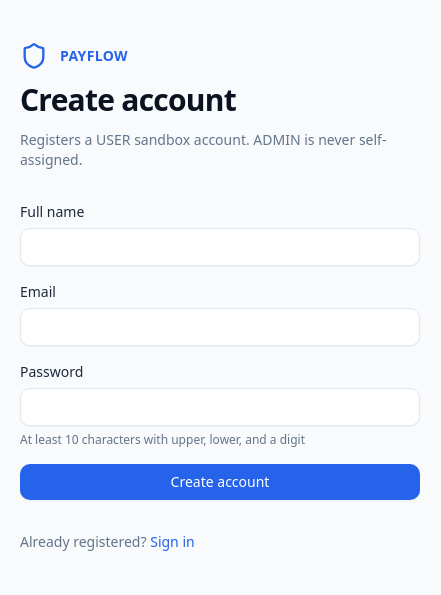
Test: login and registration UI › handles duplicate email on registration
Expected: the heading "Create account" is shown, left=20, top=79, right=236, bottom=120
Type "Ada Lovelace" into the field labelled "Full name" at [220, 247], box left=20, top=228, right=420, bottom=266
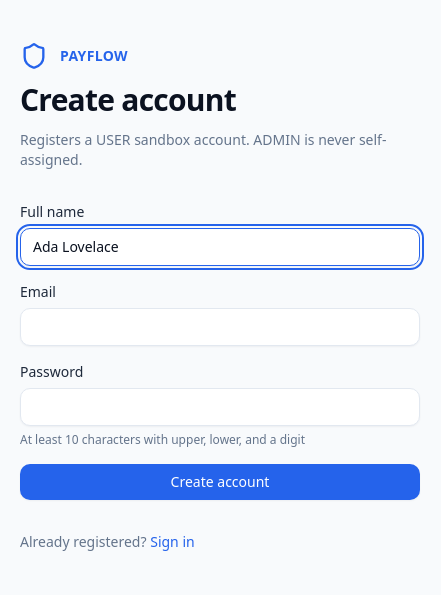
Type "ada@example.com" into the field labelled "Email" at [220, 327], box left=20, top=308, right=420, bottom=346
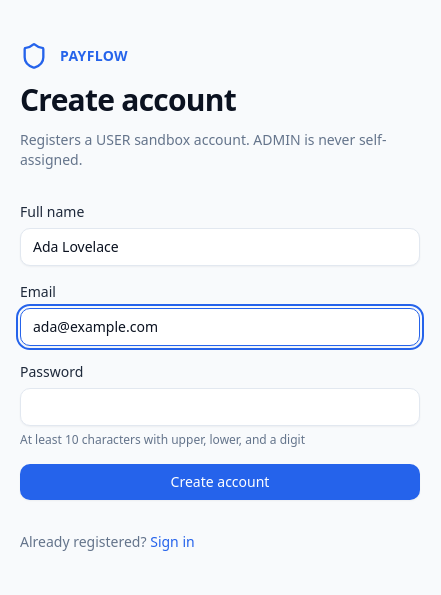
Type "Str0ngPass!" into the password field labelled "Password" at [220, 407], box left=20, top=388, right=420, bottom=426
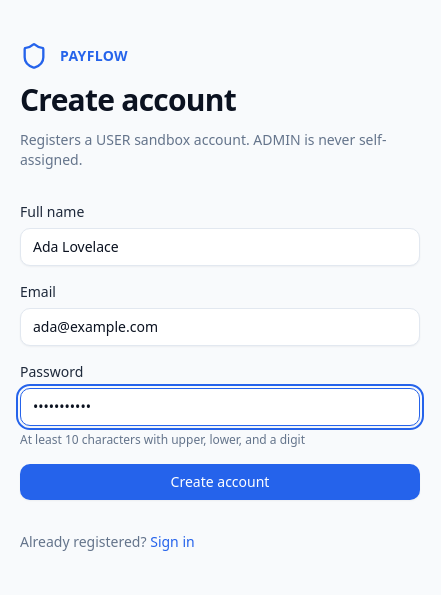
Click the button "Create account" at [220, 482], box left=20, top=464, right=420, bottom=500
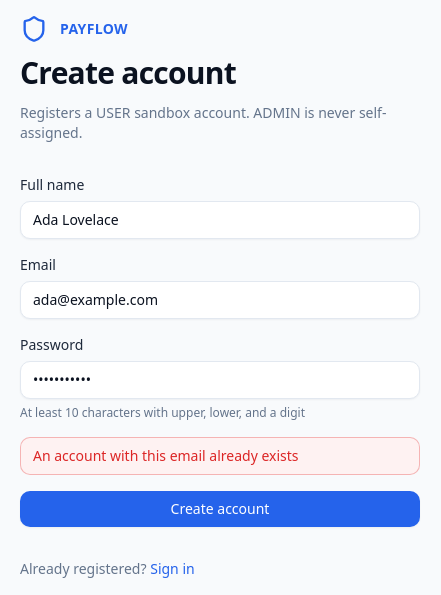
Expected: the message shows "already exists", left=33, top=446, right=298, bottom=465
